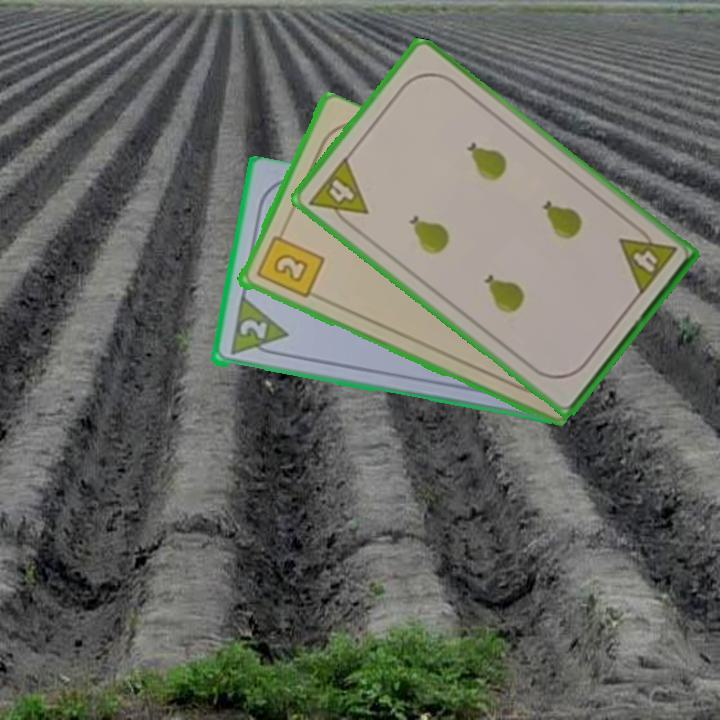2b: (252, 225, 326, 301)
2p: (226, 296, 290, 360)
4p: (304, 153, 371, 233), (615, 220, 679, 299)
